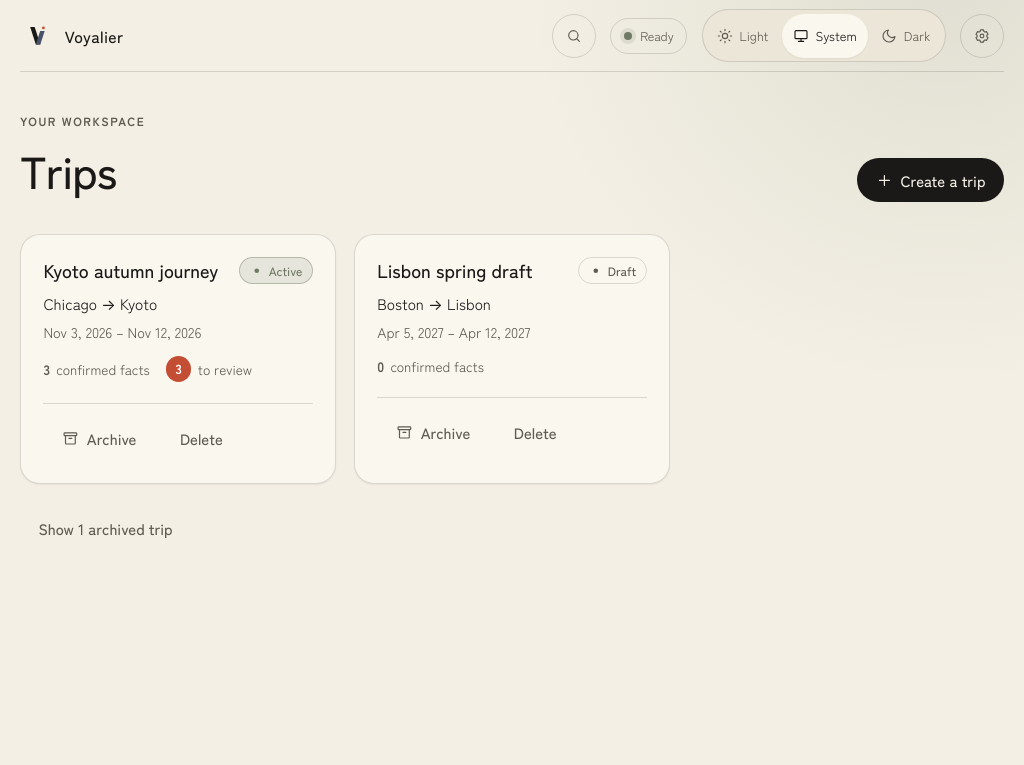
Test case: imported documents › shows the original text only when asked, then hides it again
Click the button with aria-label "Open Kyoto autumn journey" at (131, 270), box left=43, top=257, right=218, bottom=283
(page scrolled)
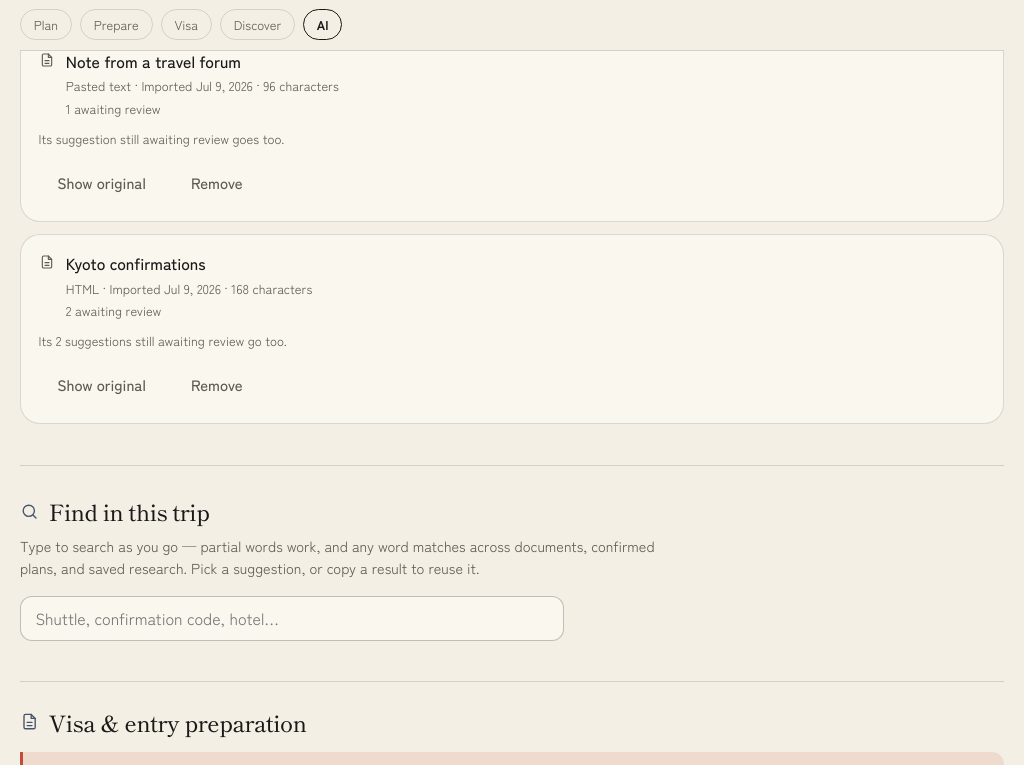
Click the button with aria-label "Show original of Kyoto confirmations" at (102, 385), box left=39, top=363, right=164, bottom=407
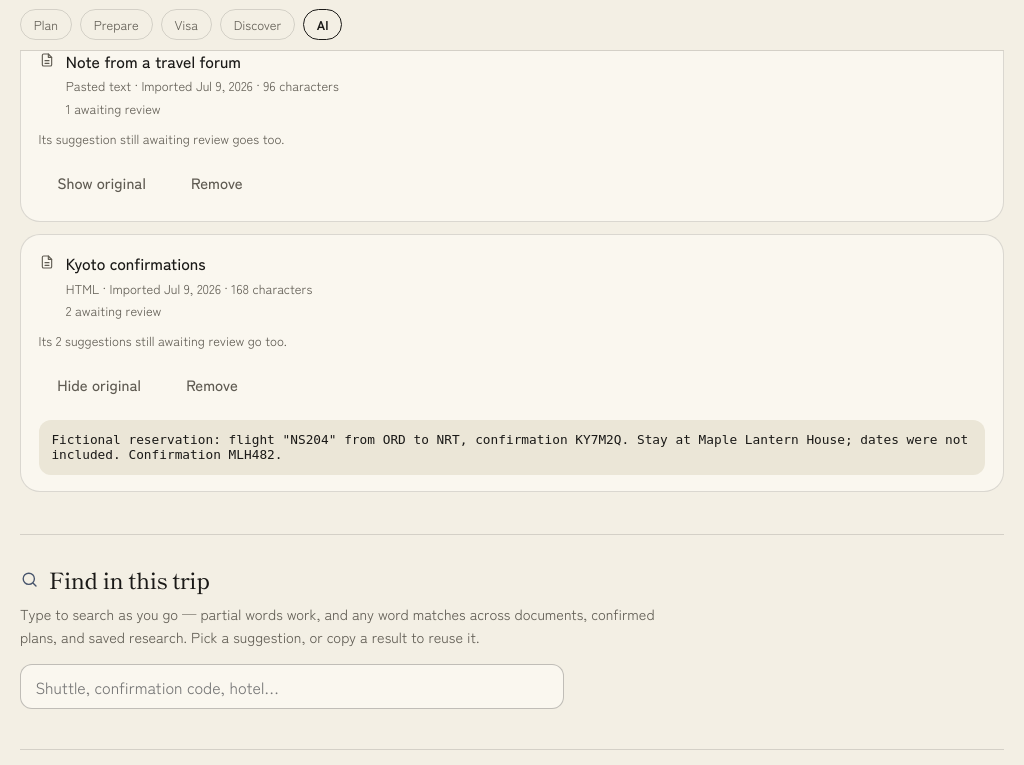
Expected: the text "KY7M2Q" is shown, left=51, top=432, right=976, bottom=462
Click the button with aria-label "Hide original of Kyoto confirmations" at (99, 385), box left=39, top=363, right=160, bottom=407
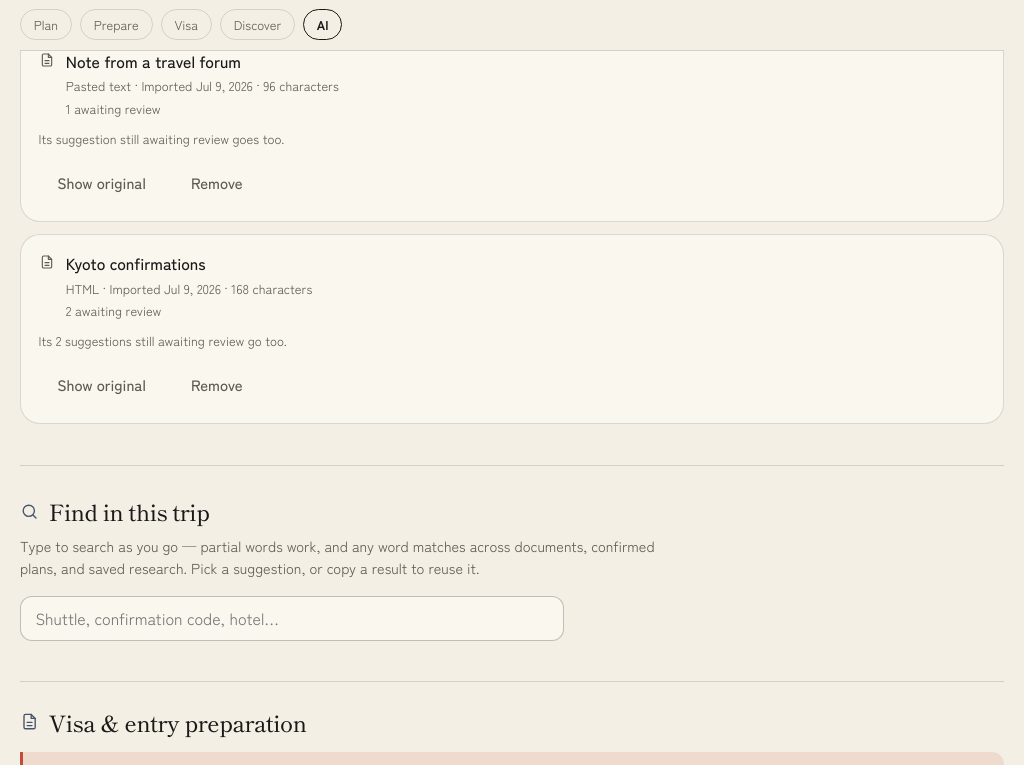
Expected: the text "KY7M2Q" is gone
